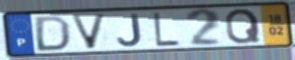2: (184, 8, 225, 48)
D: (34, 14, 73, 53)
J: (116, 13, 144, 48)
L: (151, 11, 182, 47)
Q: (224, 7, 263, 45)
V: (68, 13, 109, 50)
